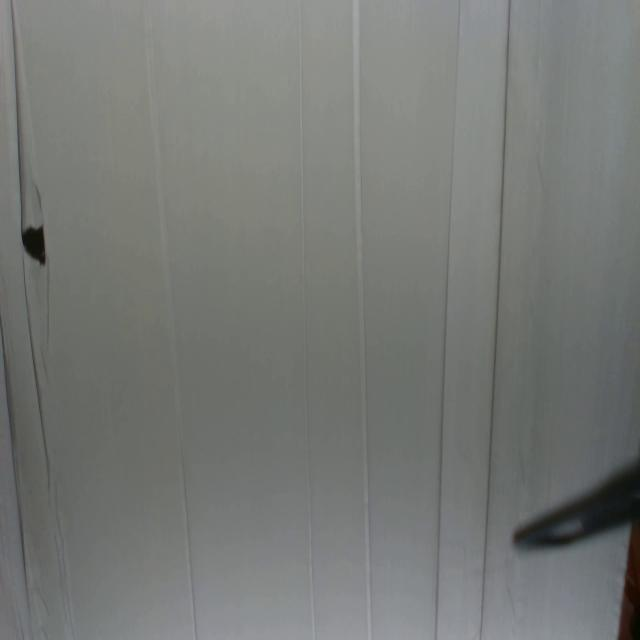crease: (142, 1, 197, 640), (478, 0, 512, 639), (7, 0, 48, 485), (433, 0, 461, 639), (351, 0, 372, 640), (298, 0, 318, 640), (0, 313, 32, 617)
hole: (21, 223, 49, 275)
